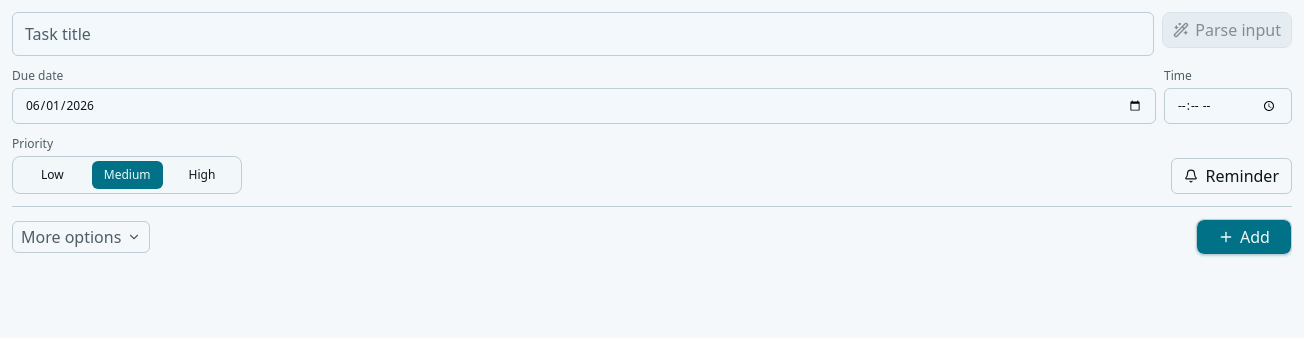
Scenario: TaskComposer › shows and clears quick add parsed chips without reverting fields
In the field labelled "Task title": (583, 34) x1=12 y1=12 x2=1154 y2=56, type "tomorrow 3pm write report #Work !high no reminder"
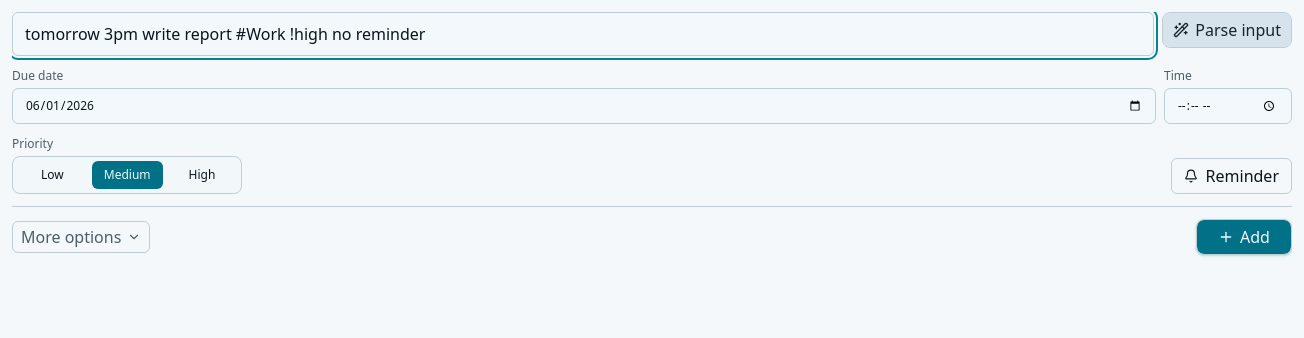
Click the button "Parse input": (1227, 30) x1=1162 y1=12 x2=1292 y2=48
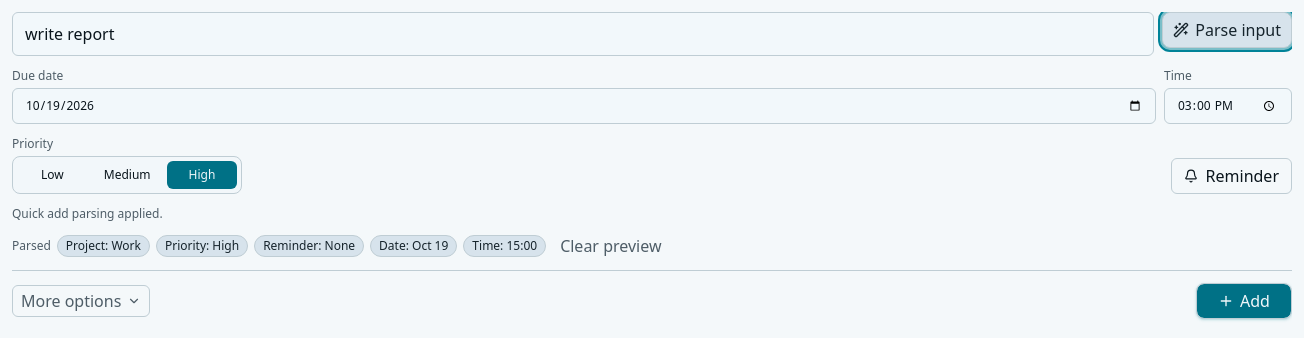
Check: the text "Parsed" is shown, box x1=12 y1=238 x2=51 y2=254
Check: the text "Project: Work" is shown, box x1=57 y1=235 x2=150 y2=257
Check: the text "Priority: High" is shown, box x1=156 y1=235 x2=248 y2=257
Click the button "Clear preview": (611, 246) x1=552 y1=234 x2=670 y2=258
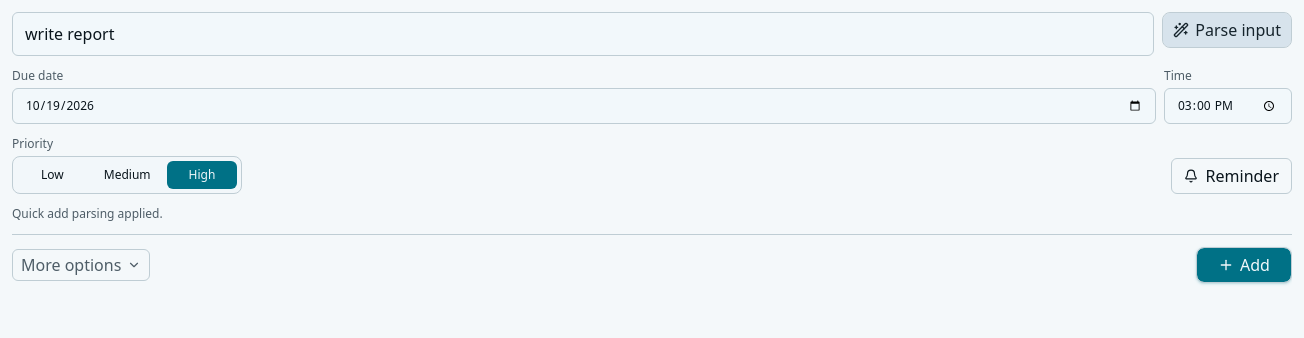
Check: the field named "Task title" holds "write report", box x1=12 y1=12 x2=1154 y2=56
Check: the text "Parsed" is gone
